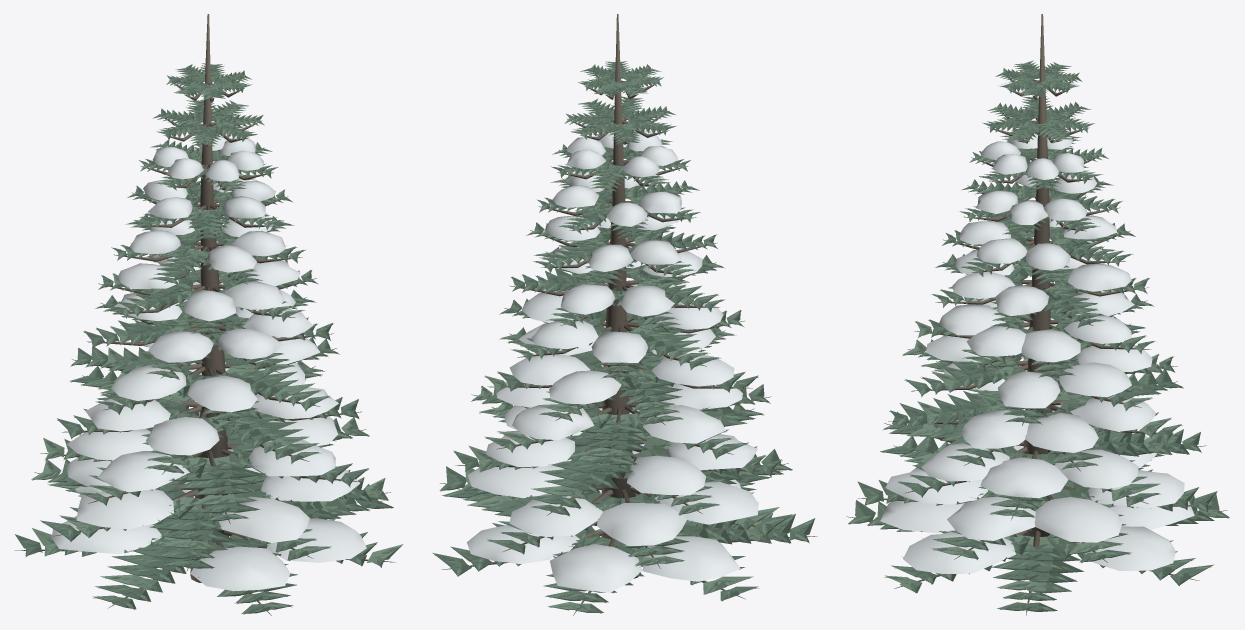
The model's file is CW_AlpineFir.fbx.
The picture shows the model from 3 angles, left to right: view 1: azimuth 30°, elevation 25°; view 2: azimuth 150°, elevation 25°; view 3: azimuth 270°, elevation 25°; orthographic projection.
Visible parts, largest first — view 1: CW_AlpineFir, CW_AlpineFir_SnowCaps; view 2: CW_AlpineFir_SnowCaps, CW_AlpineFir; view 3: CW_AlpineFir_SnowCaps, CW_AlpineFir.
Boxes of the visible parts, left/top/right/bottom form: CW_AlpineFir: left=14, top=14, right=403, bottom=615; CW_AlpineFir_SnowCaps: left=51, top=134, right=366, bottom=590; CW_AlpineFir_SnowCaps: left=467, top=130, right=758, bottom=592; CW_AlpineFir: left=433, top=14, right=817, bottom=615; CW_AlpineFir_SnowCaps: left=880, top=130, right=1194, bottom=573; CW_AlpineFir: left=846, top=14, right=1229, bottom=615.
Size of the model in its own units: 4.64 by 7.51 by 4.68.
